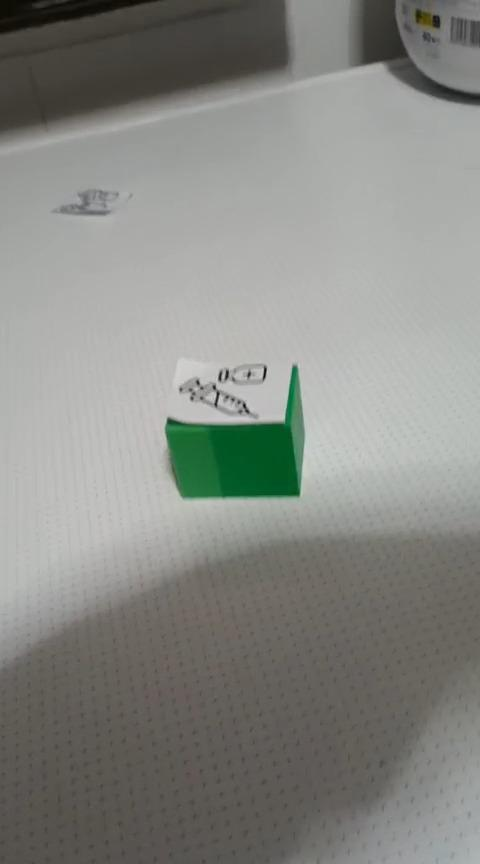antiseptic cream: (163, 355, 305, 500)
